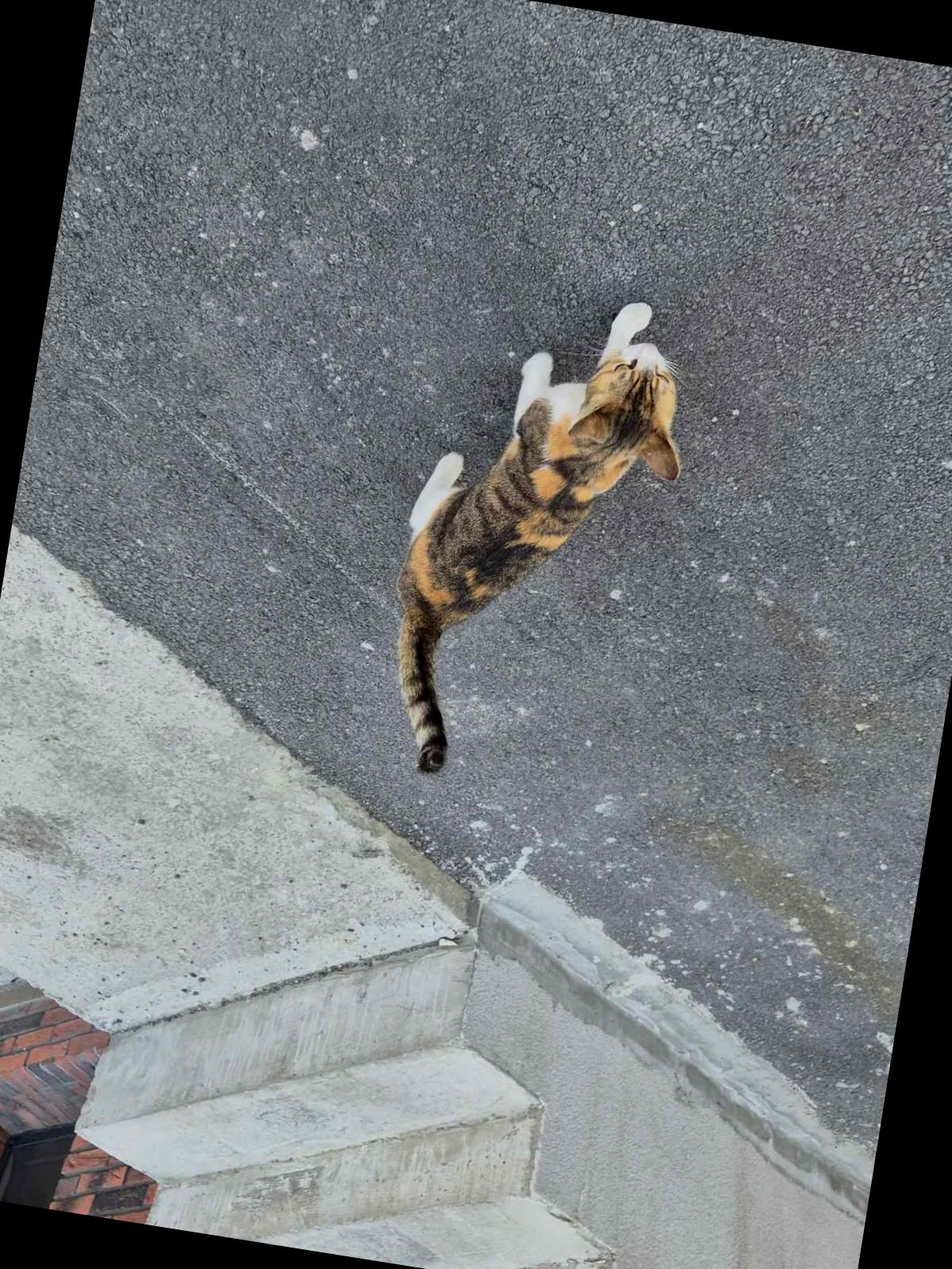macka: (367, 268, 707, 809)
